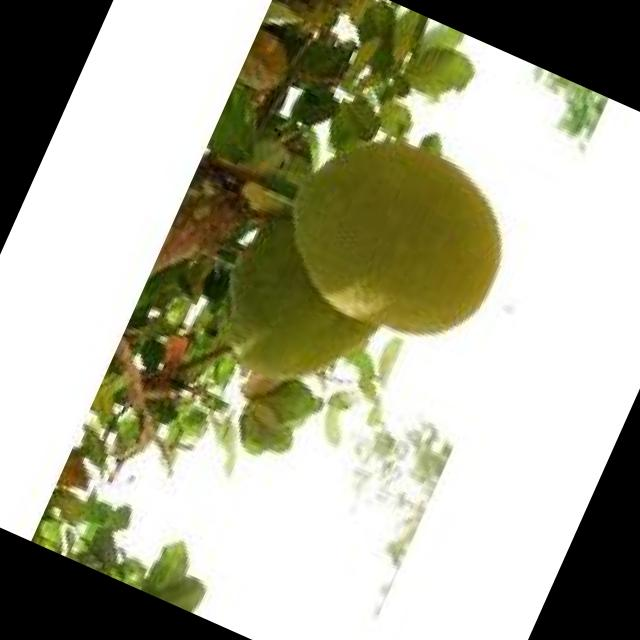Fruit: (247, 96, 544, 377)
